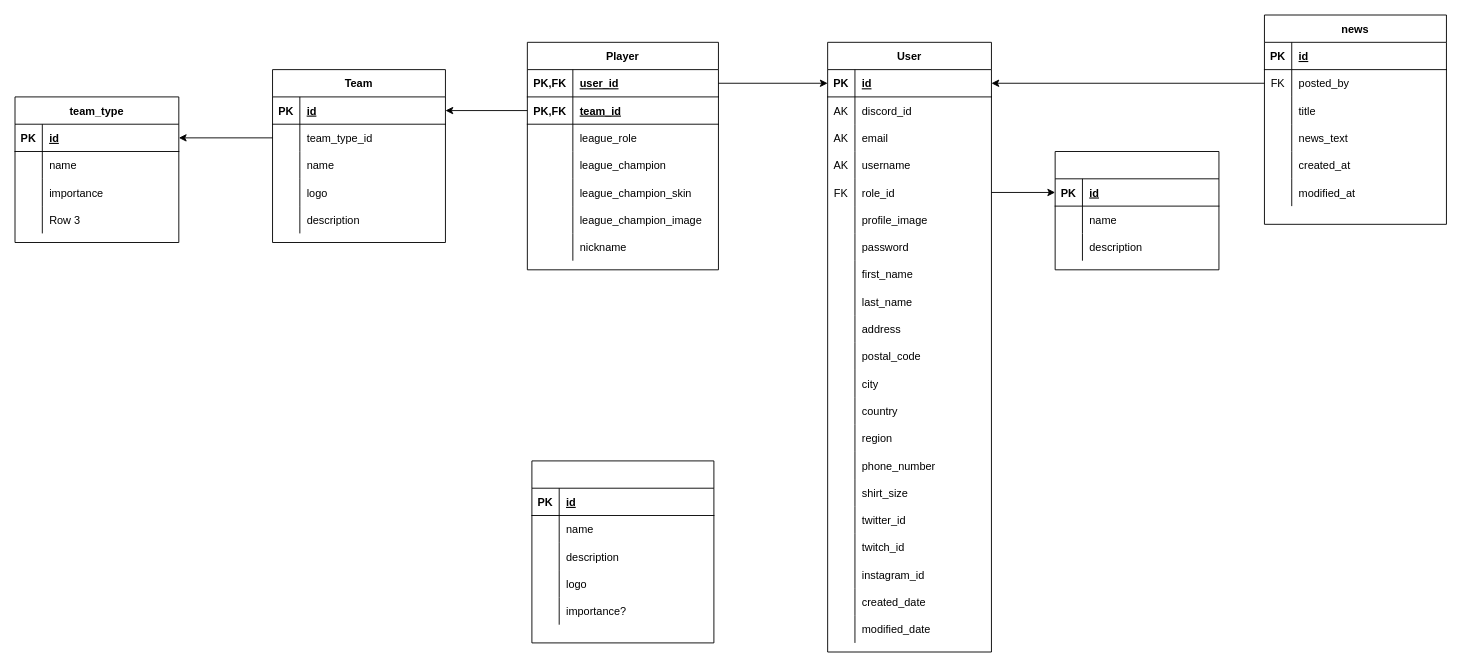
Some shapes in this 1461 by 667 pixel diagram are drawn without their labels. Each missing label, with the box of its shape:
Role: (1054, 151, 1219, 270)
Sponsor: (531, 460, 714, 643)
